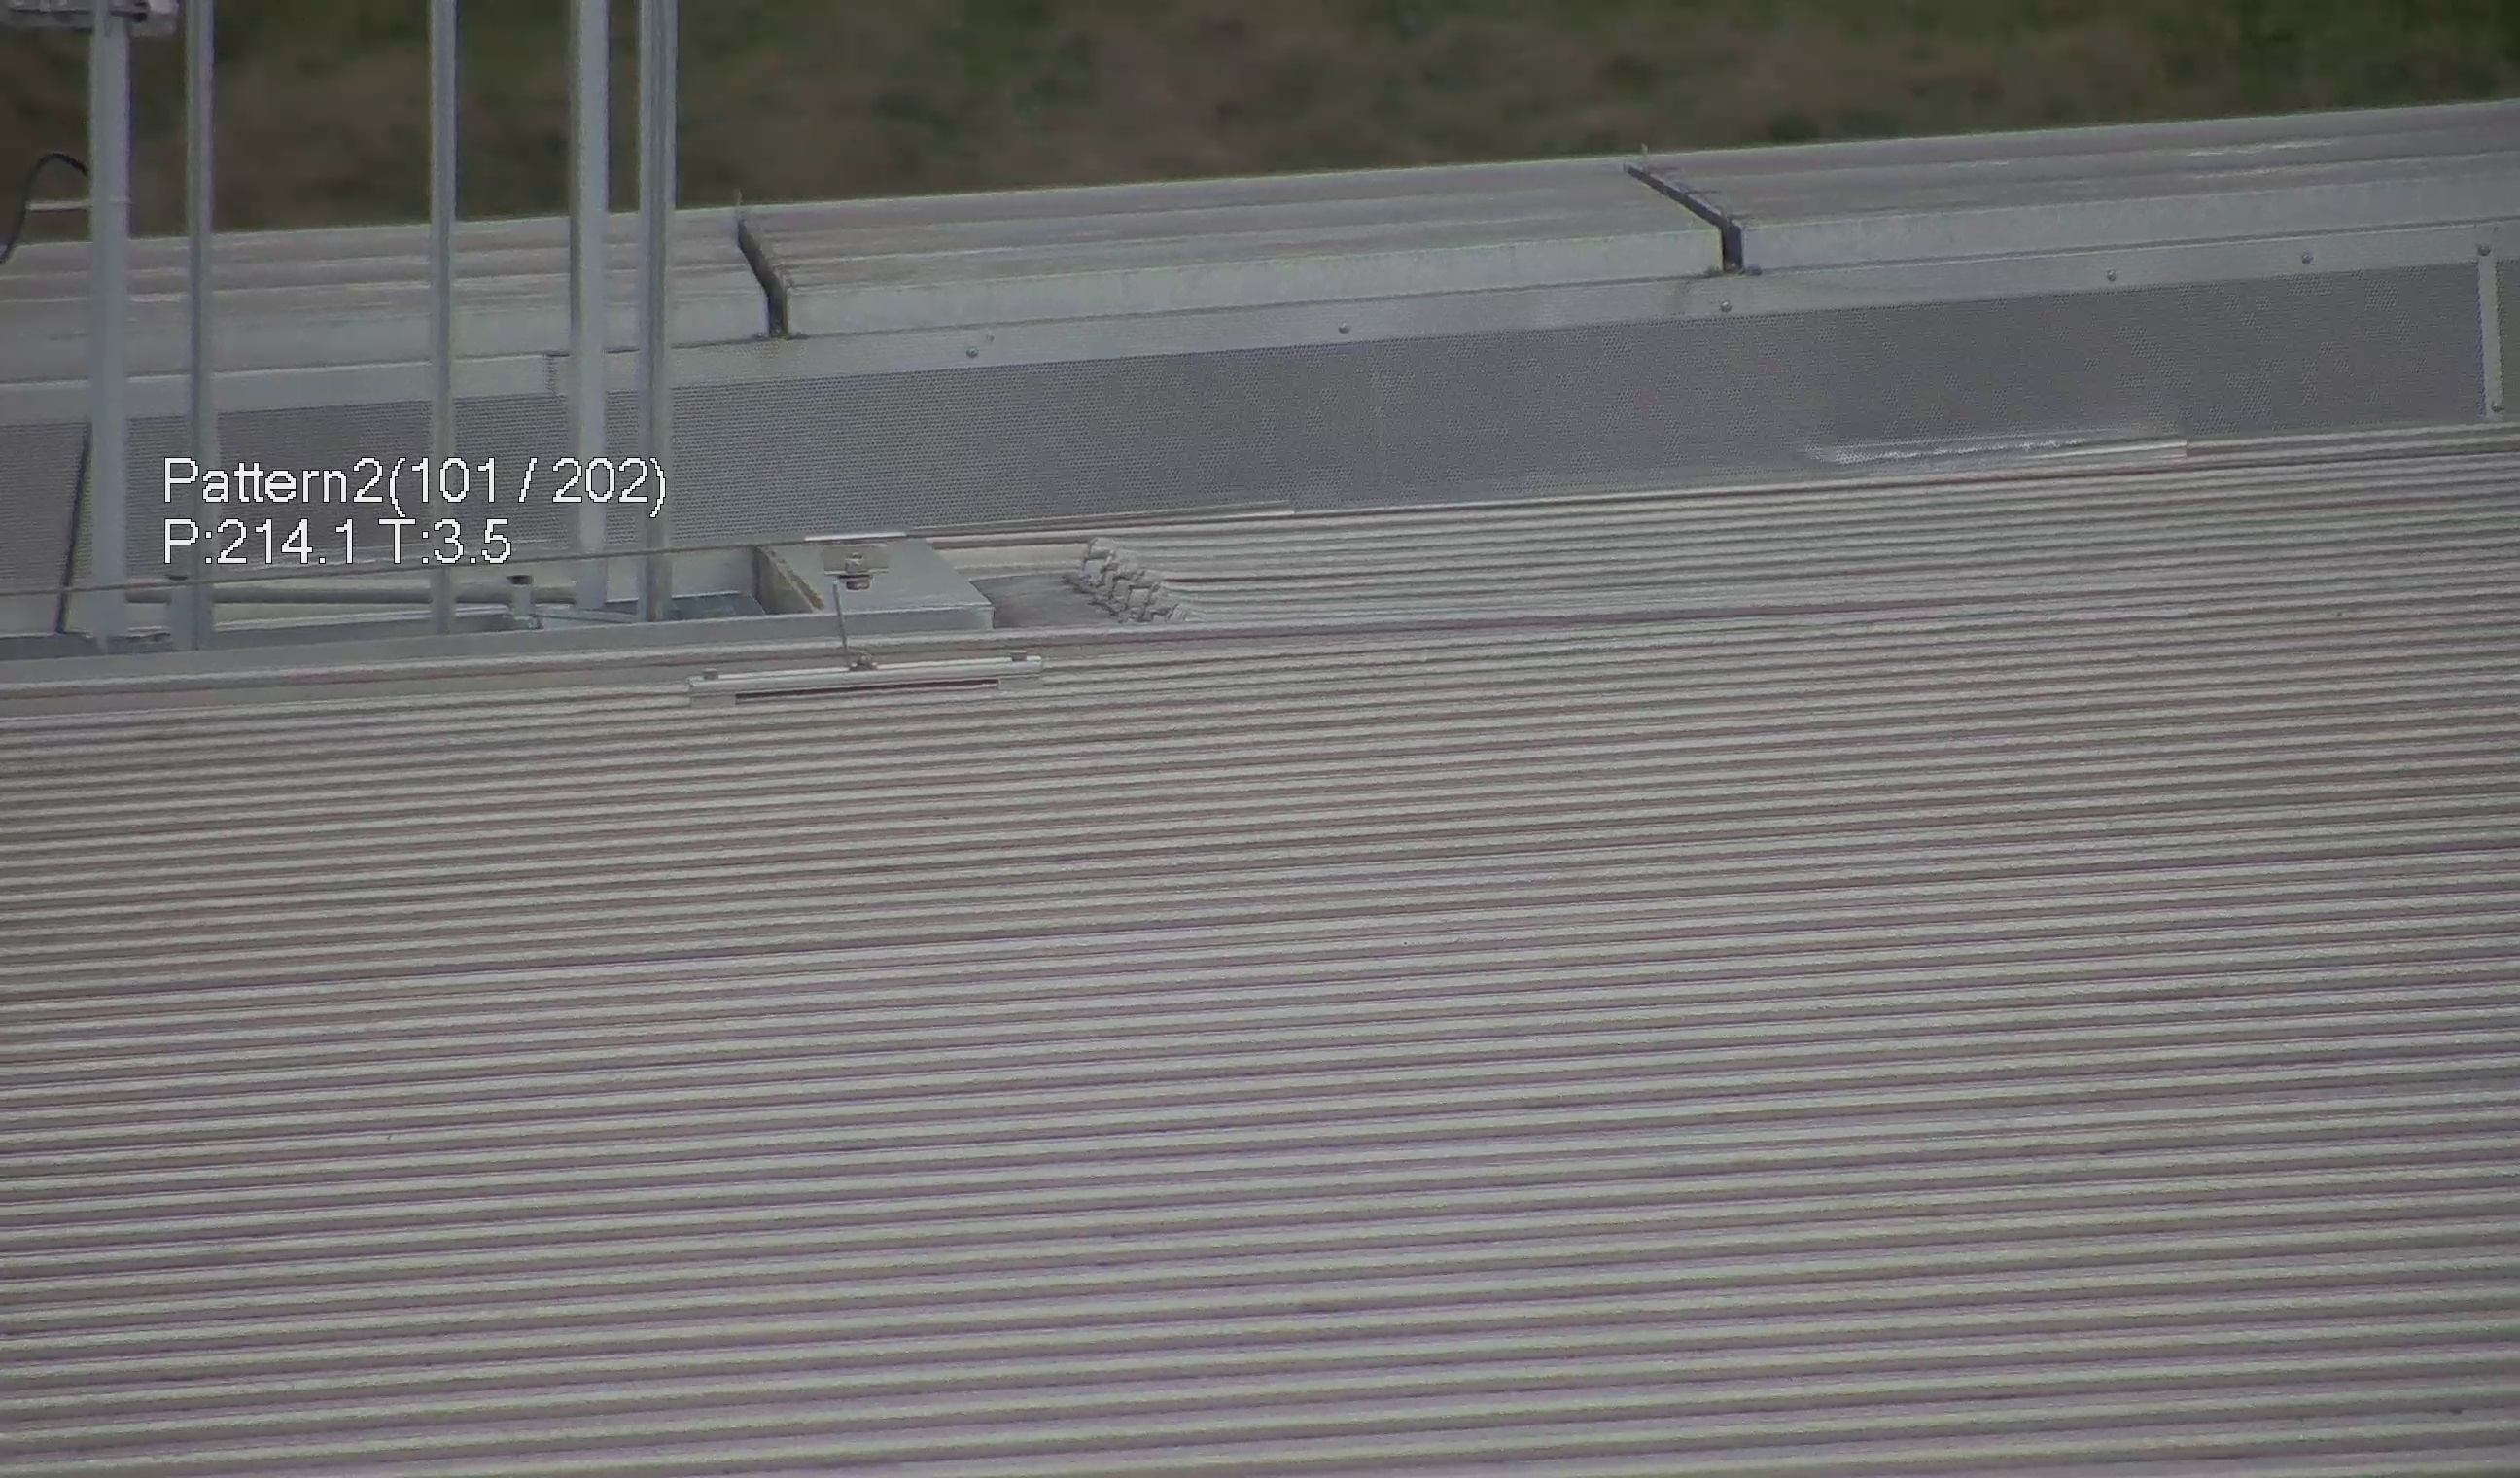Other: (702, 195, 804, 348)
